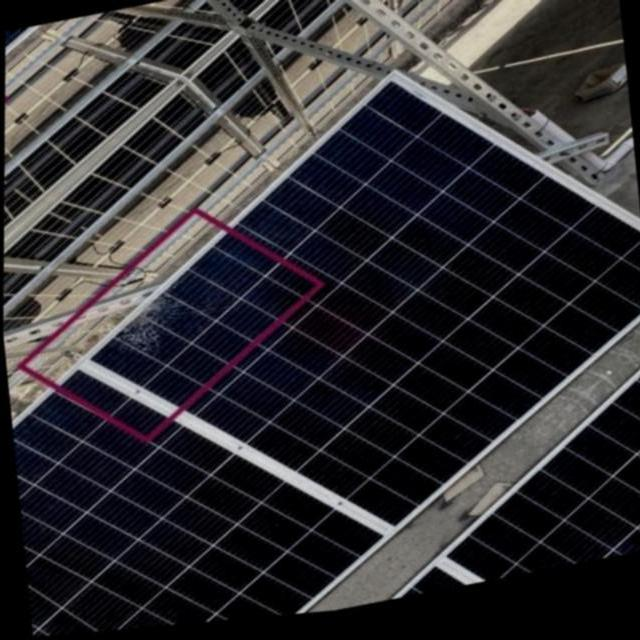cracked: (103, 282, 209, 368)
